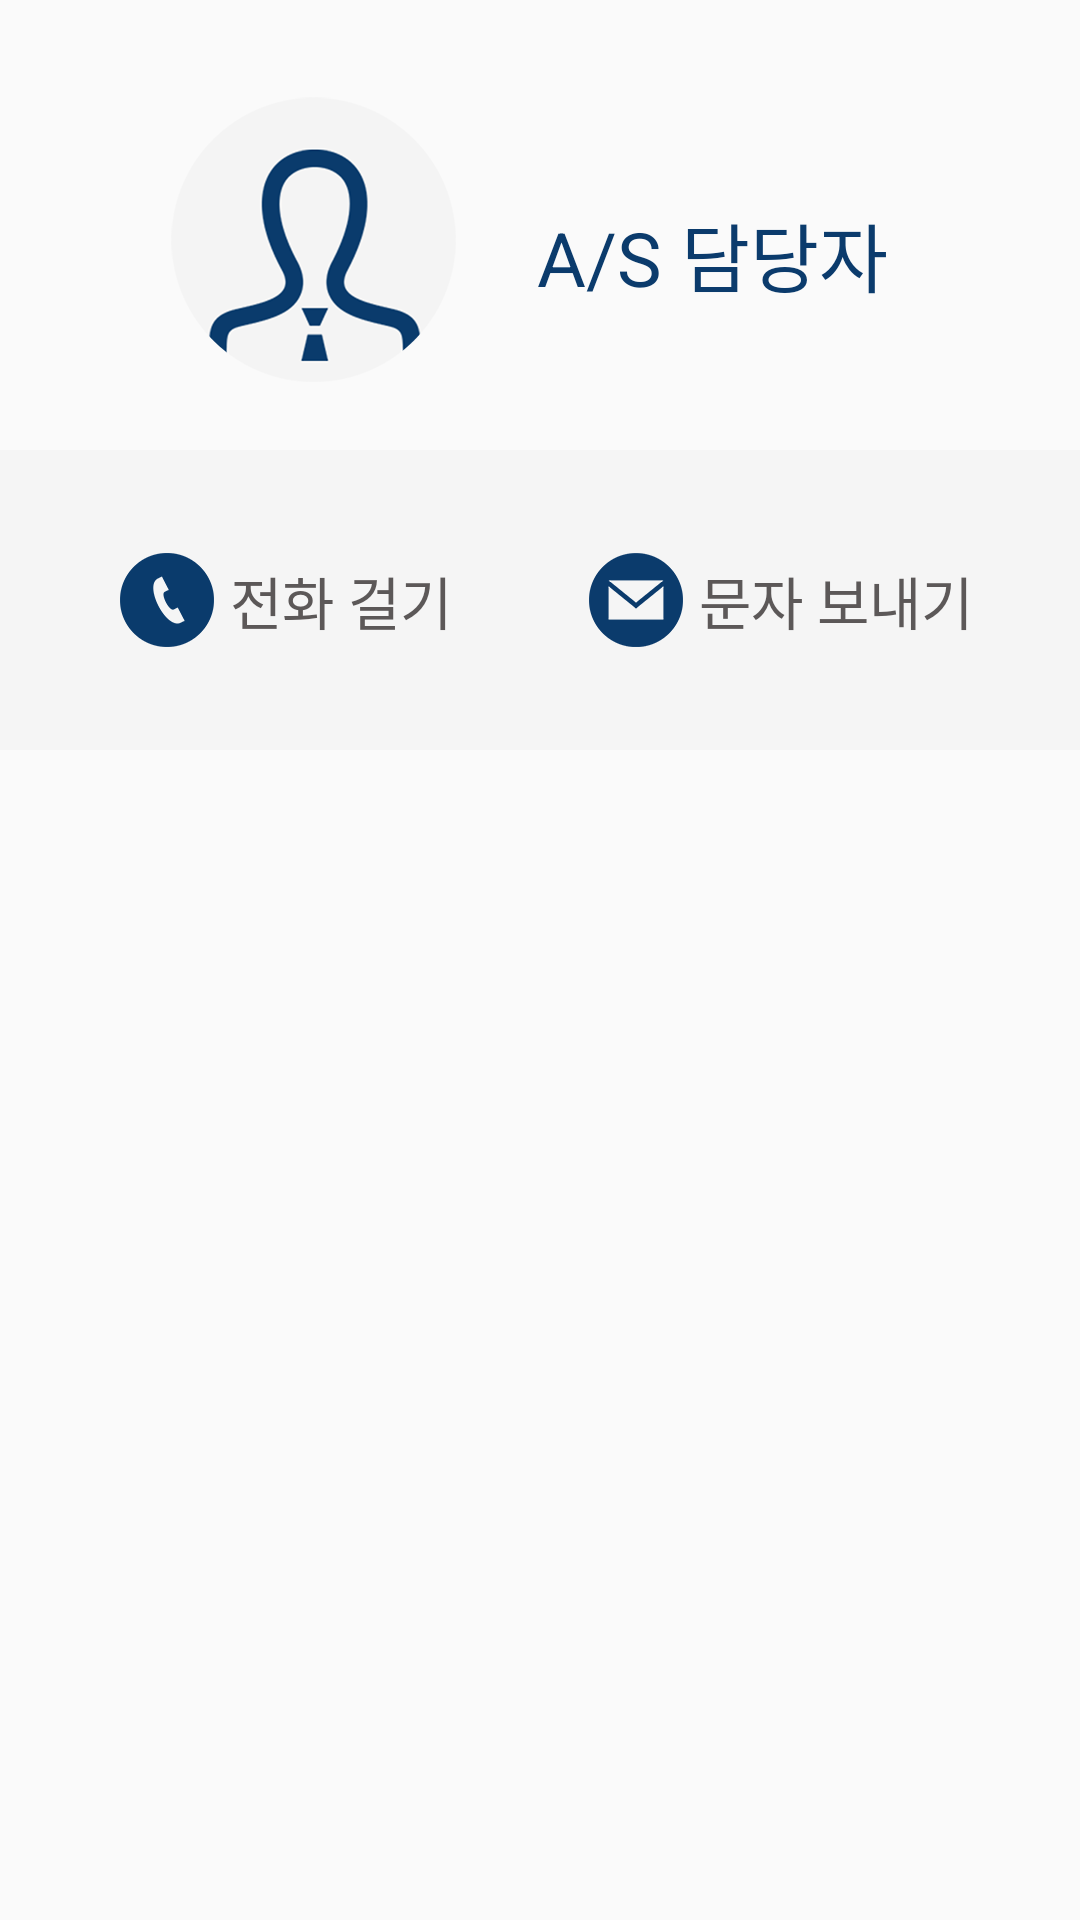

Point at icon controls on the screen. Image size 1080w x 1920h, points as (x,y).
as human: (314,255)
